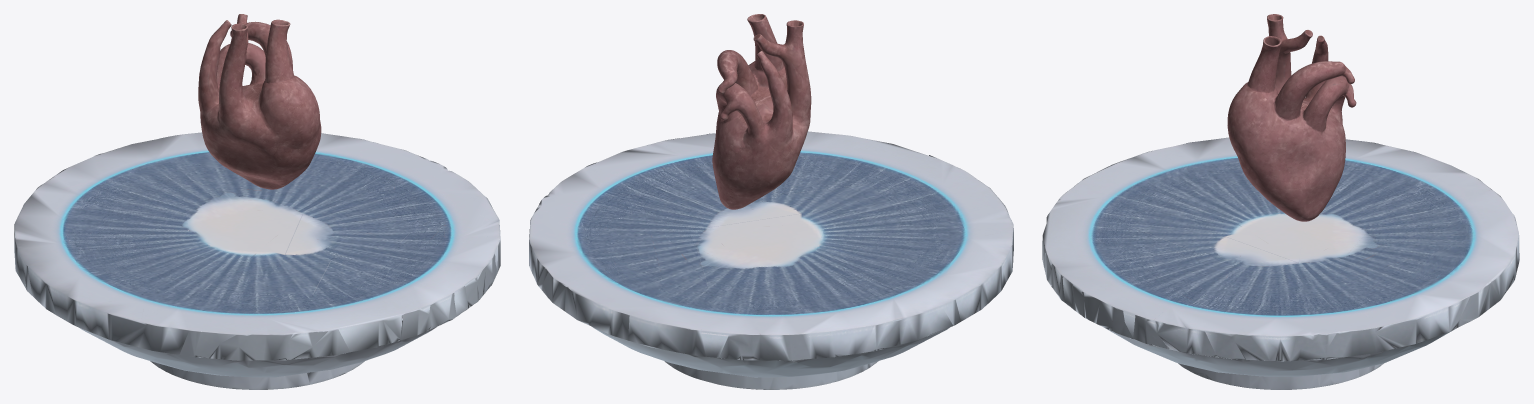
The model's file is Lobby_HologramTable.glb.
3 renders of one model, left to right at view 1: azimuth 30°, elevation 25°; view 2: azimuth 150°, elevation 25°; view 3: azimuth 270°, elevation 25°, orthographic. The views are drawn at different scales.
Size of the model in its own units: 1.9 by 1.38 by 1.9.
Materials: 1 (1 with a texture image).
